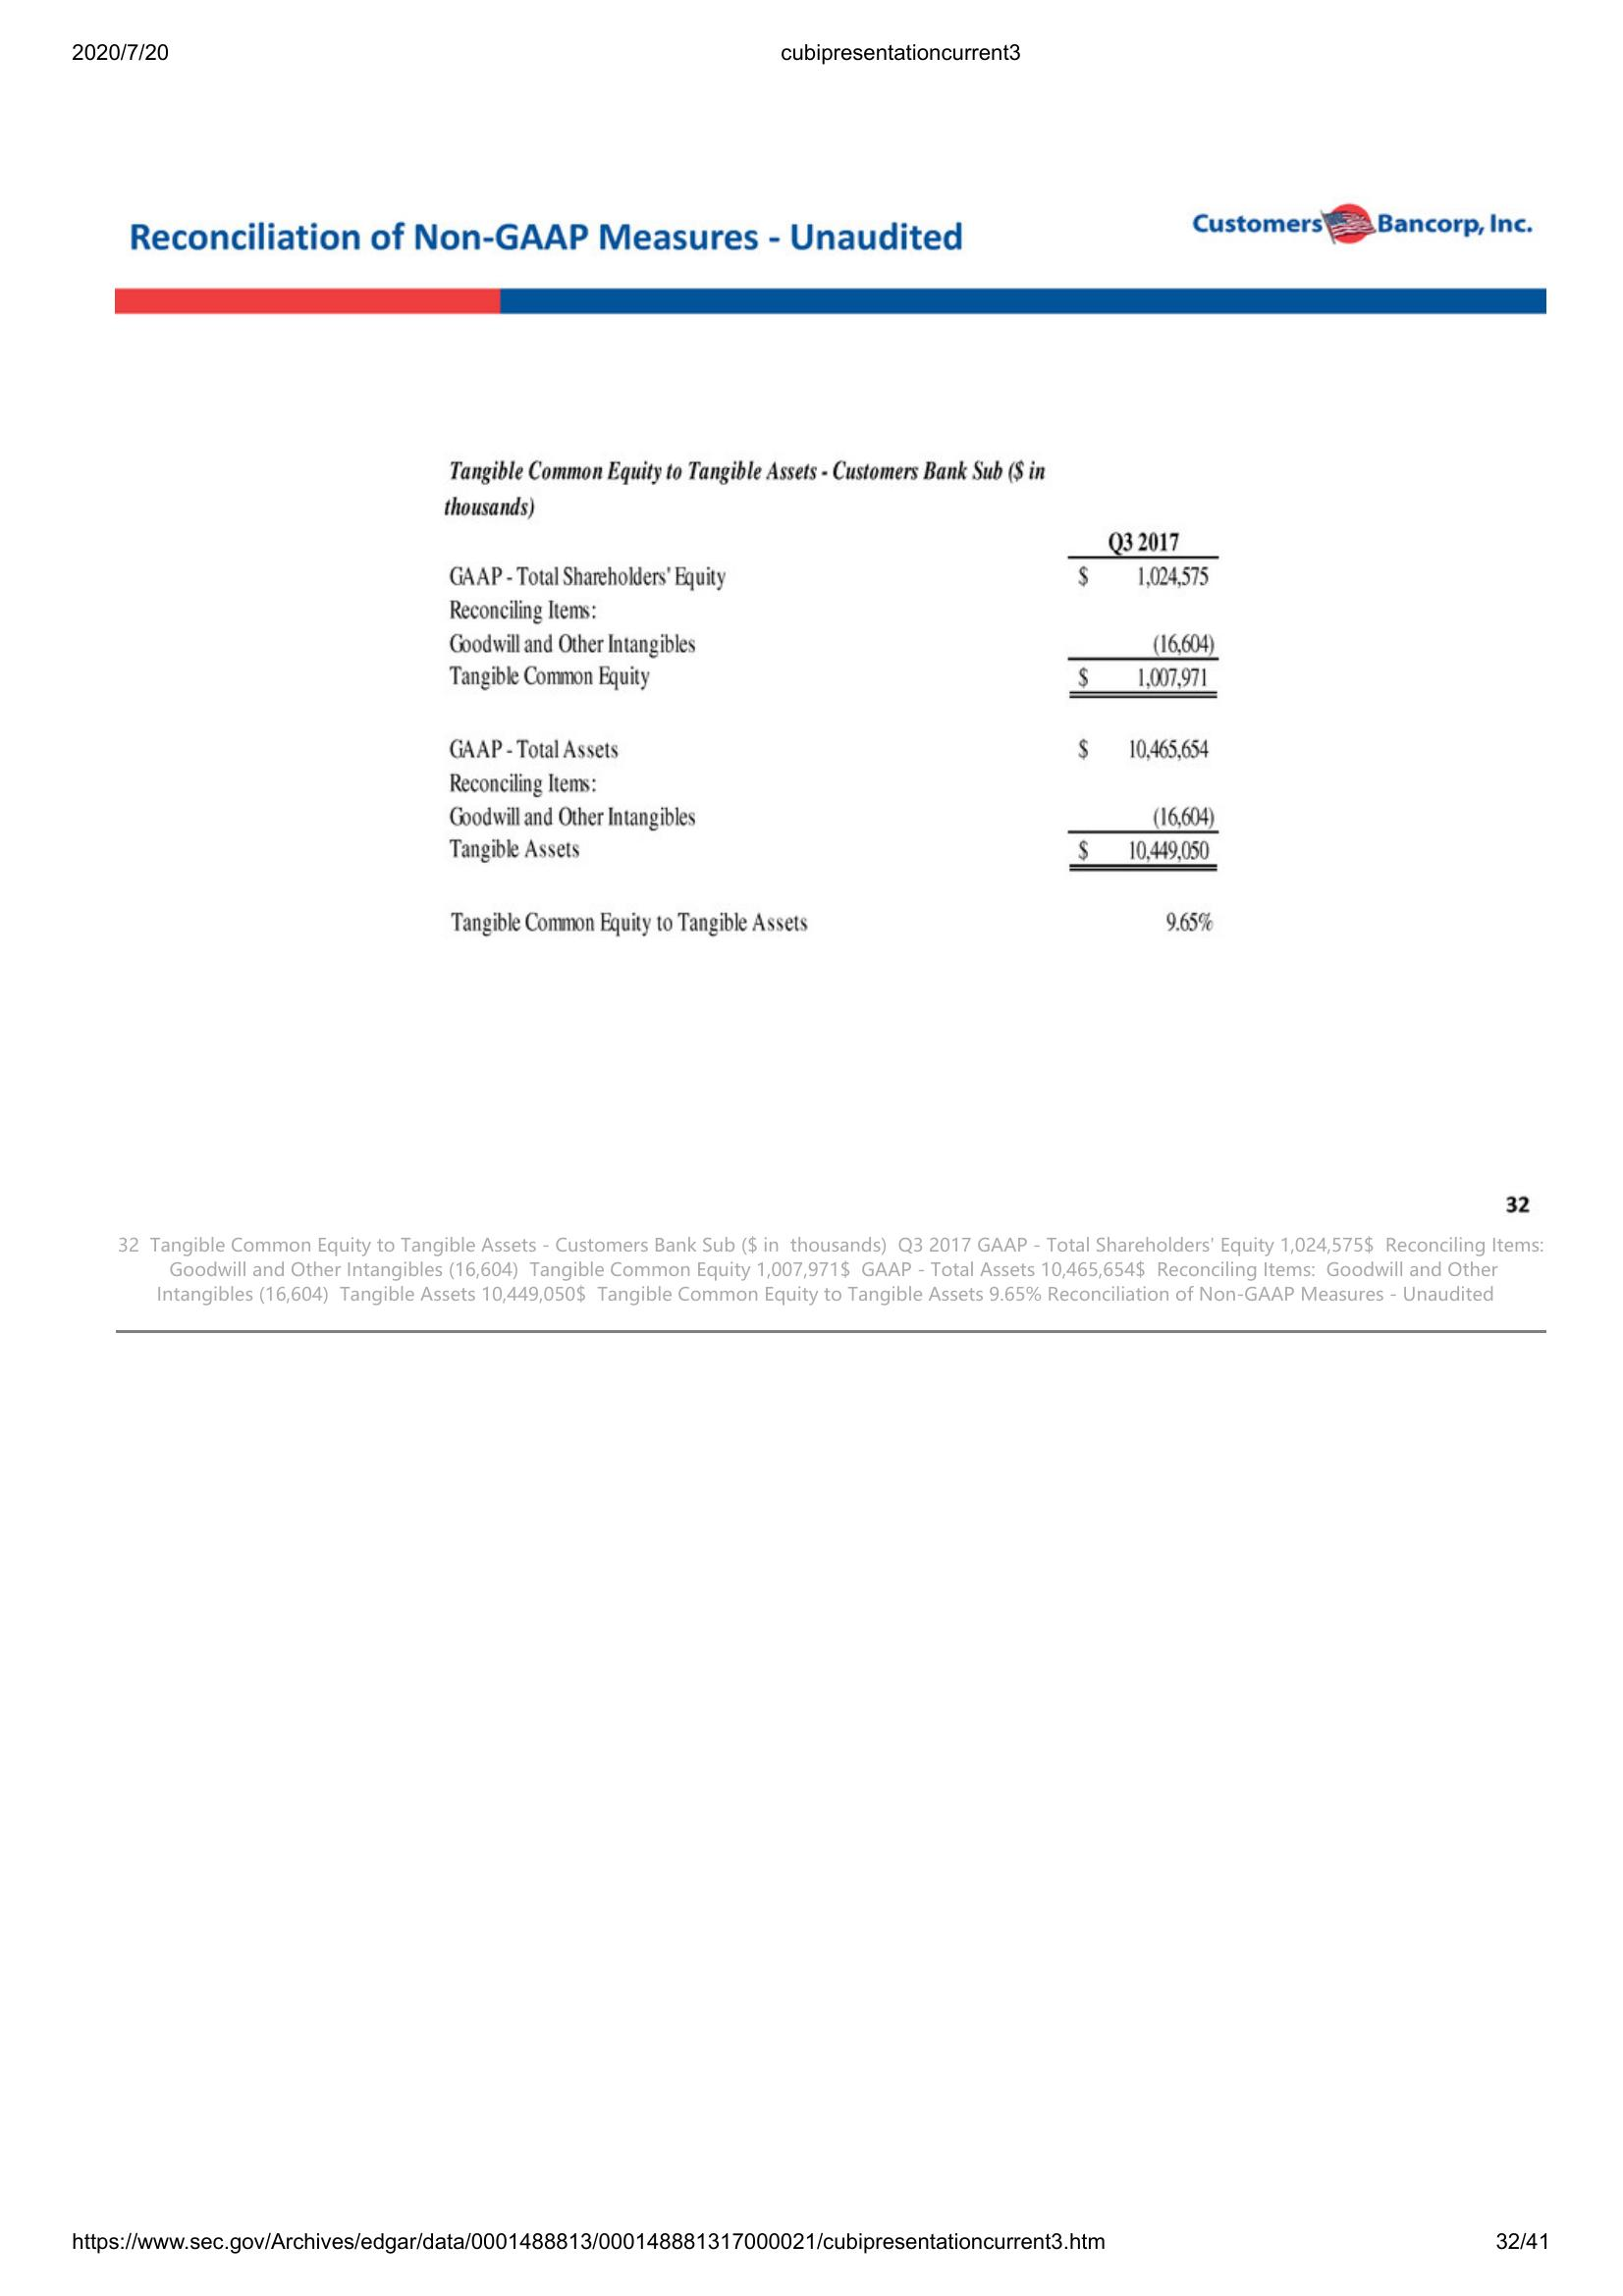table: (441, 449, 1230, 951)
